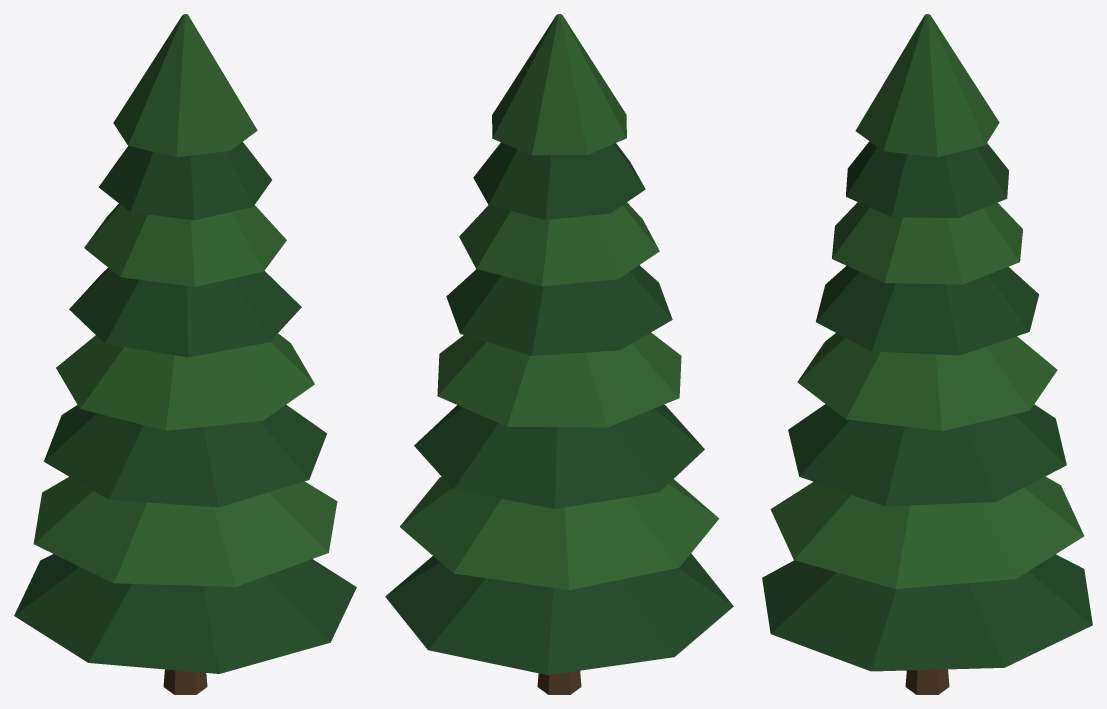
Rendered from tree_pine_4.glb.
The picture shows the model from 3 angles, left to right: view 1: azimuth 30°, elevation 25°; view 2: azimuth 150°, elevation 25°; view 3: azimuth 270°, elevation 25°; orthographic projection.
Visible parts, largest first — view 1: tree_pine_4; view 2: tree_pine_4; view 3: tree_pine_4.
Boxes of the visible parts, left/top/right/bottom form: tree_pine_4: left=14, top=14, right=356, bottom=694; tree_pine_4: left=385, top=14, right=733, bottom=694; tree_pine_4: left=762, top=14, right=1092, bottom=694.
Size of what is drawn, in the model's own units: 5.29 by 11.85 by 5.29.
